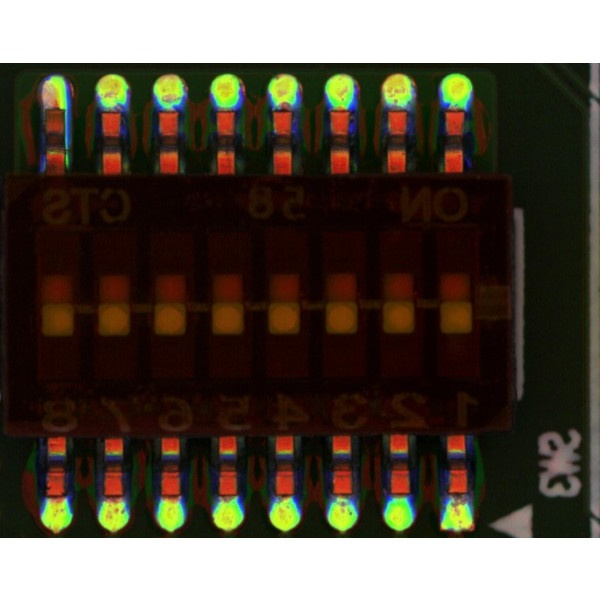Bad_podu: (46, 97, 62, 119)
Bad_qiaojiao: (63, 111, 71, 168)
